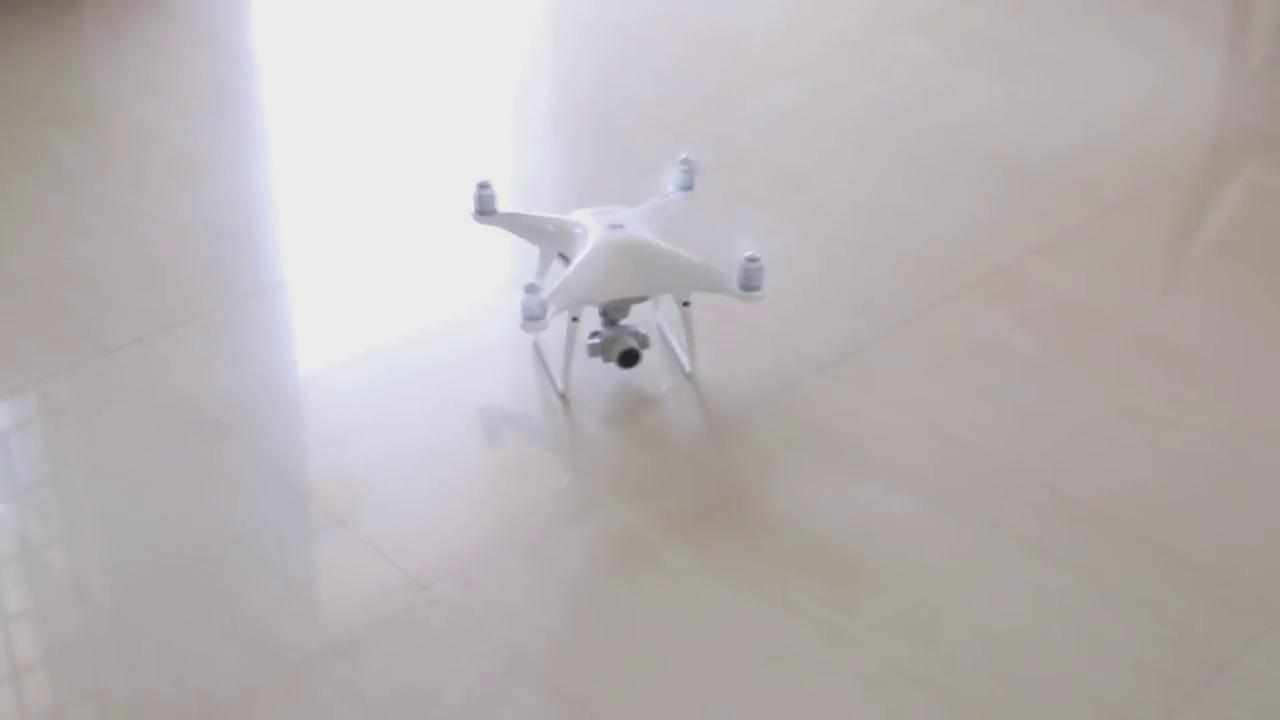drone: (454, 143, 782, 331)
